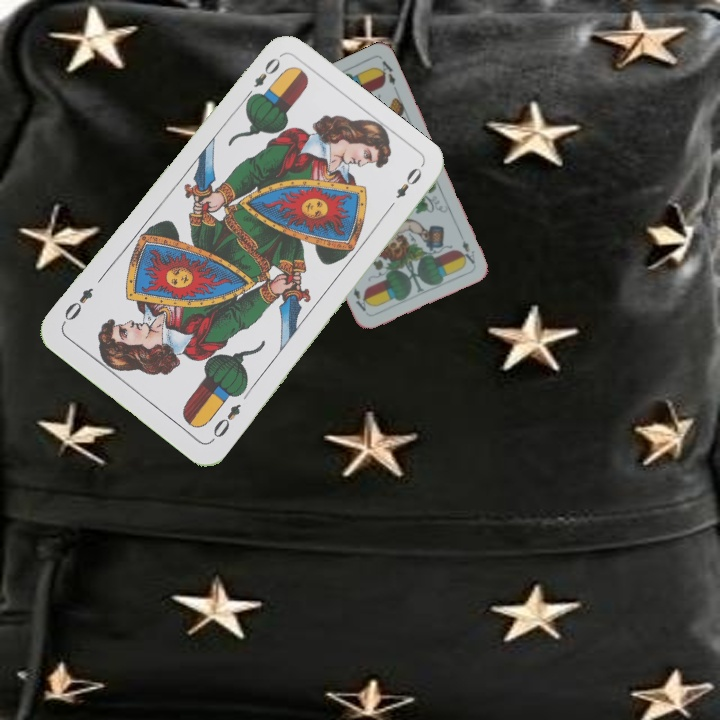EA: (458, 236, 478, 267)
EO: (240, 53, 283, 103), (207, 399, 244, 445)
